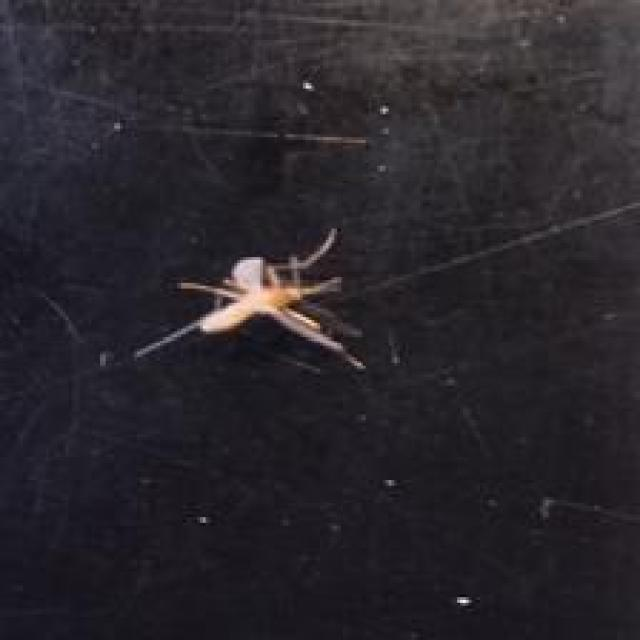Culex: (133, 226, 367, 374)
